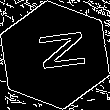N_W: (25, 31, 85, 79)
